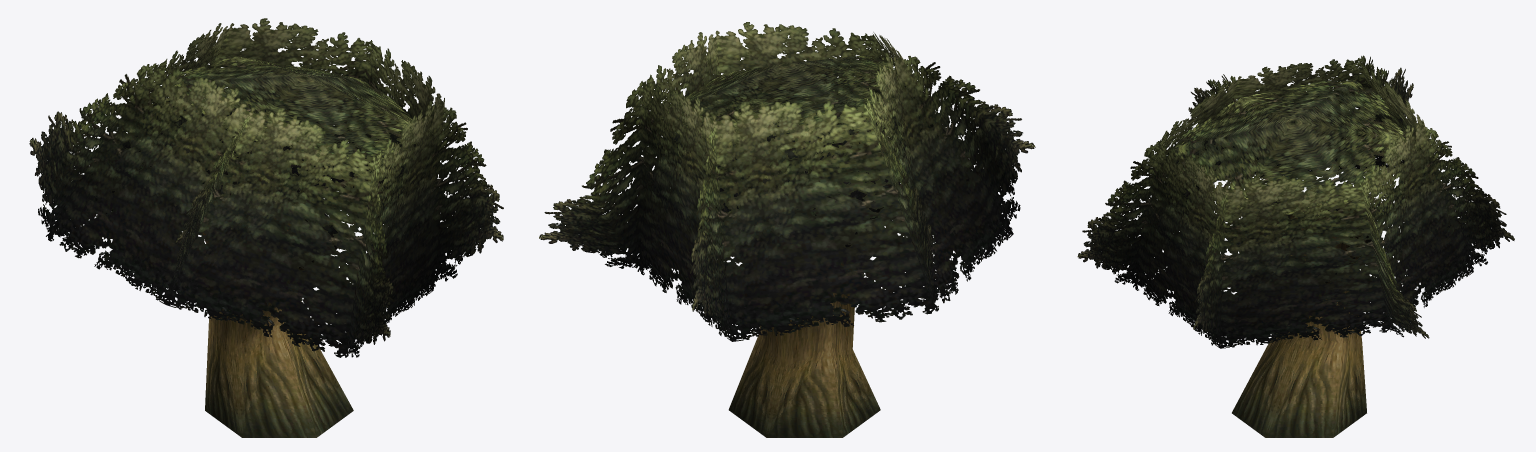
Rendered from duskwoodtreespookless01.obj.
3 renders of one model, left to right at view 1: azimuth 30°, elevation 25°; view 2: azimuth 150°, elevation 25°; view 3: azimuth 270°, elevation 25°, orthographic. The views are drawn at different scales.
Parts seen in each view (by area): view 1: Geoset1, Geoset0; view 2: Geoset1, Geoset0; view 3: Geoset1, Geoset0.
Part boxes in pixels (left/top/right/bottom): Geoset1: left=29, top=18, right=503, bottom=357; Geoset0: left=202, top=185, right=353, bottom=437; Geoset1: left=539, top=22, right=1035, bottom=341; Geoset0: left=728, top=189, right=883, bottom=437; Geoset1: left=1077, top=55, right=1514, bottom=348; Geoset0: left=1226, top=200, right=1378, bottom=437.
Size of the model in its own units: 60.01 by 55.73 by 65.94.
Materials: 2 (2 with a texture image).
